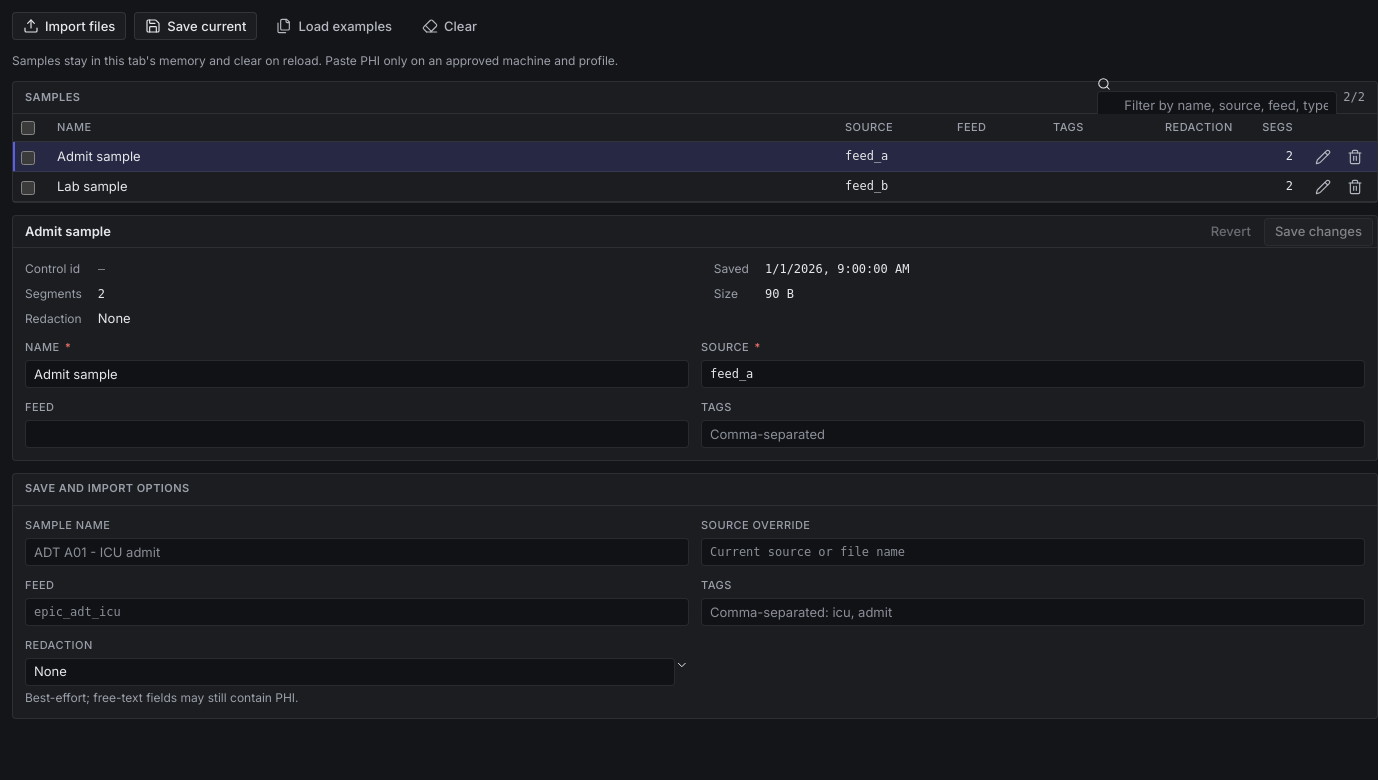
Test: SampleInbox › clears the filter from its own Clear button
Expected: the button "Clear filter" is not shown
Type "lab" into the field named "Filter samples" at (1217, 105), box 1097,91 -> 1337,119
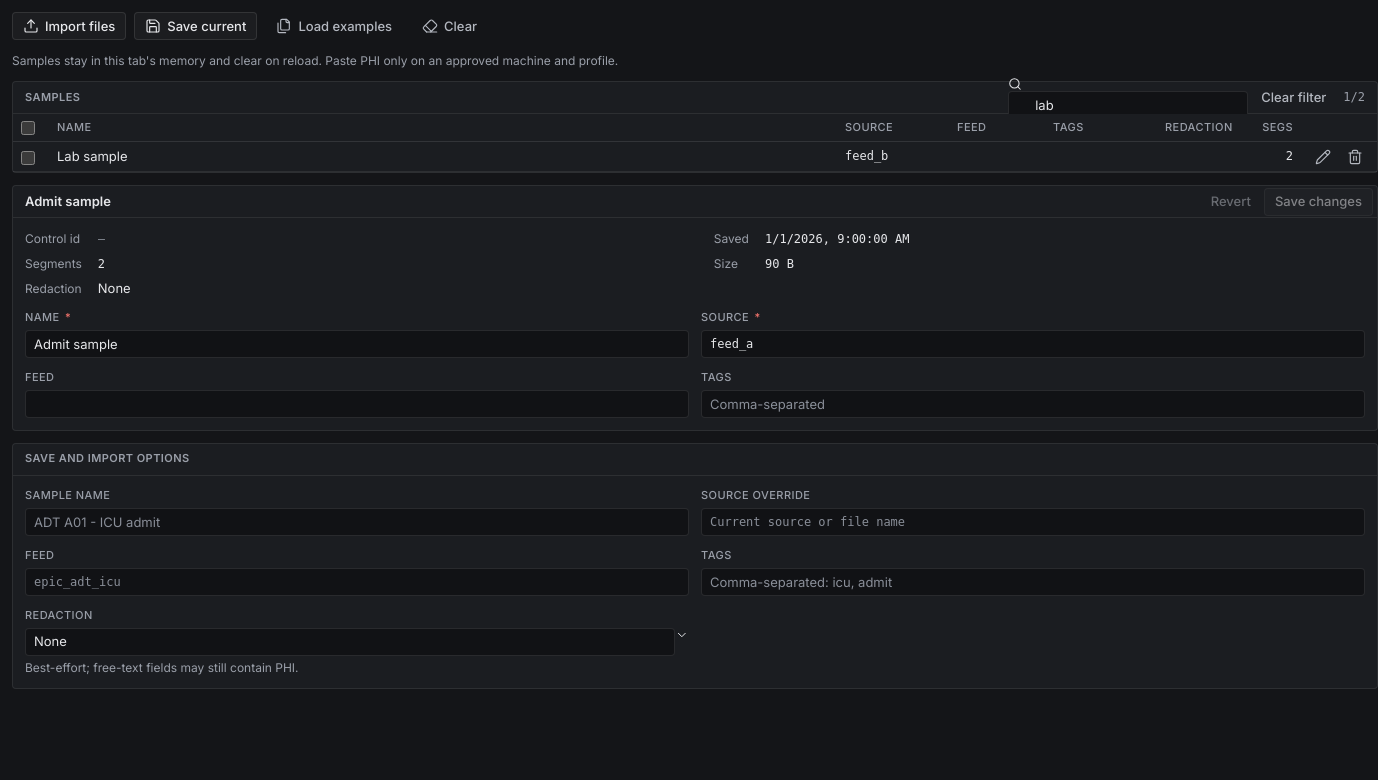
Now the text "1/2" is shown, box 1343,90 -> 1365,104
Click the button "Clear filter" at (1294, 98), box 1250,84 -> 1337,112
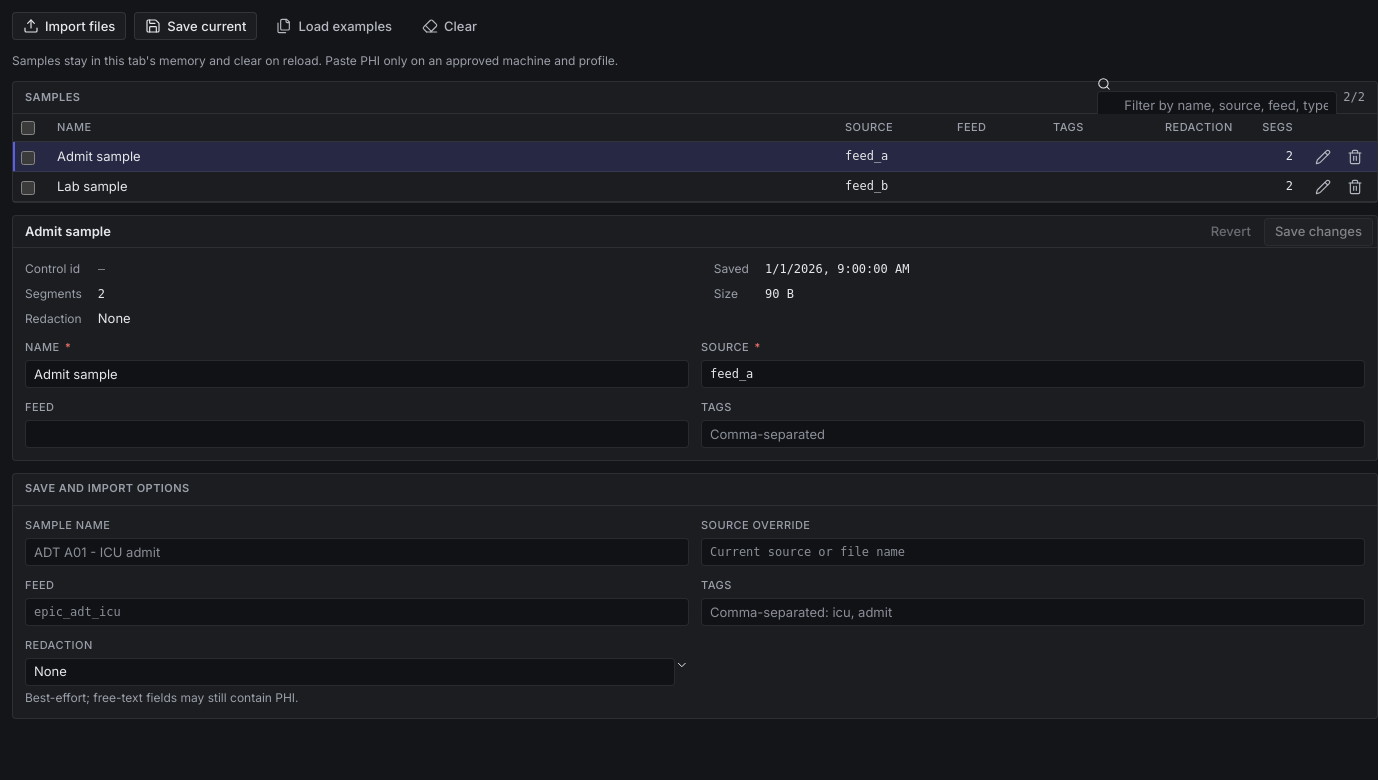
Now the field named "Filter samples" is empty, box 1097,91 -> 1337,119
Now the cell "Admit sample" is shown, box 49,142 -> 837,172
Now the text "2/2" is shown, box 1343,90 -> 1365,104
